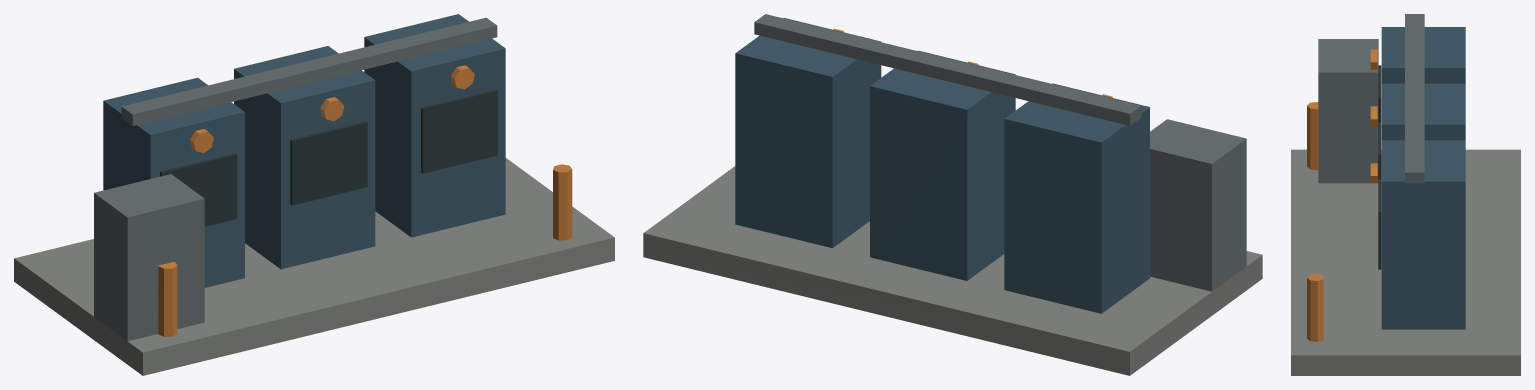
Rendered from Battery-Bank.glb.
3 renders of one model, left to right at view 1: azimuth 30°, elevation 25°; view 2: azimuth 150°, elevation 25°; view 3: azimuth 270°, elevation 25°, orthographic. The views are drawn at different scales.
Visible parts, largest first — view 1: battery-bank-static-battery-cabinet-navy, battery-bank-static-battery-concrete, battery-bank-static-battery-tray-metal, battery-bank-static-battery-panel-charcoal, battery-bank-static-battery-coupler-orange; view 2: battery-bank-static-battery-cabinet-navy, battery-bank-static-battery-concrete, battery-bank-static-battery-tray-metal; view 3: battery-bank-static-battery-concrete, battery-bank-static-battery-cabinet-navy, battery-bank-static-battery-tray-metal, battery-bank-static-battery-coupler-orange, battery-bank-static-battery-panel-charcoal.
Part boxes in pixels (left/top/right/bottom): battery-bank-static-battery-cabinet-navy: left=103, top=14, right=505, bottom=287; battery-bank-static-battery-concrete: left=14, top=158, right=614, bottom=375; battery-bank-static-battery-tray-metal: left=94, top=17, right=497, bottom=341; battery-bank-static-battery-panel-charcoal: left=160, top=89, right=497, bottom=226; battery-bank-static-battery-coupler-orange: left=158, top=65, right=572, bottom=336; battery-bank-static-battery-cabinet-navy: left=735, top=18, right=1149, bottom=313; battery-bank-static-battery-concrete: left=643, top=166, right=1262, bottom=375; battery-bank-static-battery-tray-metal: left=754, top=14, right=1246, bottom=291; battery-bank-static-battery-concrete: left=1291, top=149, right=1520, bottom=375; battery-bank-static-battery-cabinet-navy: left=1381, top=27, right=1465, bottom=329; battery-bank-static-battery-tray-metal: left=1318, top=14, right=1424, bottom=183; battery-bank-static-battery-coupler-orange: left=1307, top=49, right=1377, bottom=341; battery-bank-static-battery-panel-charcoal: left=1378, top=65, right=1381, bottom=269.
Bounding box in the file's own units: 5.5 × 2.24 × 2.6.
